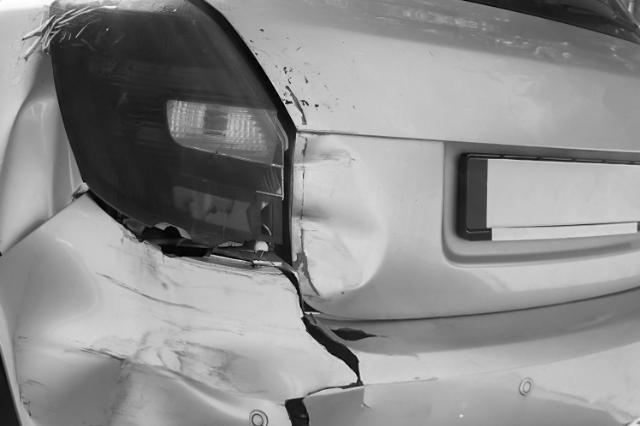Bumper: (0, 195, 458, 426)
Light: (52, 0, 295, 260)
